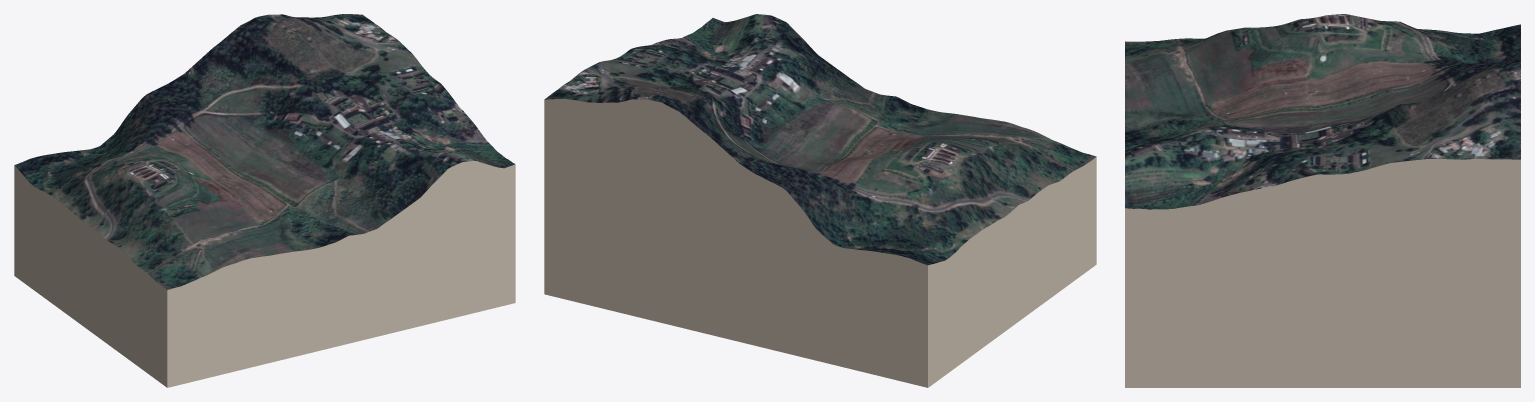
File: edamame2.gltf
3 renders of one model, left to right at view 1: azimuth 30°, elevation 25°; view 2: azimuth 150°, elevation 25°; view 3: azimuth 270°, elevation 25°, orthographic. The views are drawn at different scales.
Parts seen in each view (by area): view 1: DEM Pinetown, side (×2); view 2: side (×2), DEM Pinetown; view 3: side, DEM Pinetown.
Part boxes in pixels (x1,y1,x2,y2): DEM Pinetown: (15, 14, 514, 289); side (×2): (14, 161, 515, 387); side (×2): (544, 99, 1096, 387); DEM Pinetown: (544, 14, 1096, 265); side: (1125, 159, 1520, 387); DEM Pinetown: (1125, 14, 1520, 209).
Size of the model in its own units: 100 by 54.86 by 76.1.
2 materials, 1 textured.
